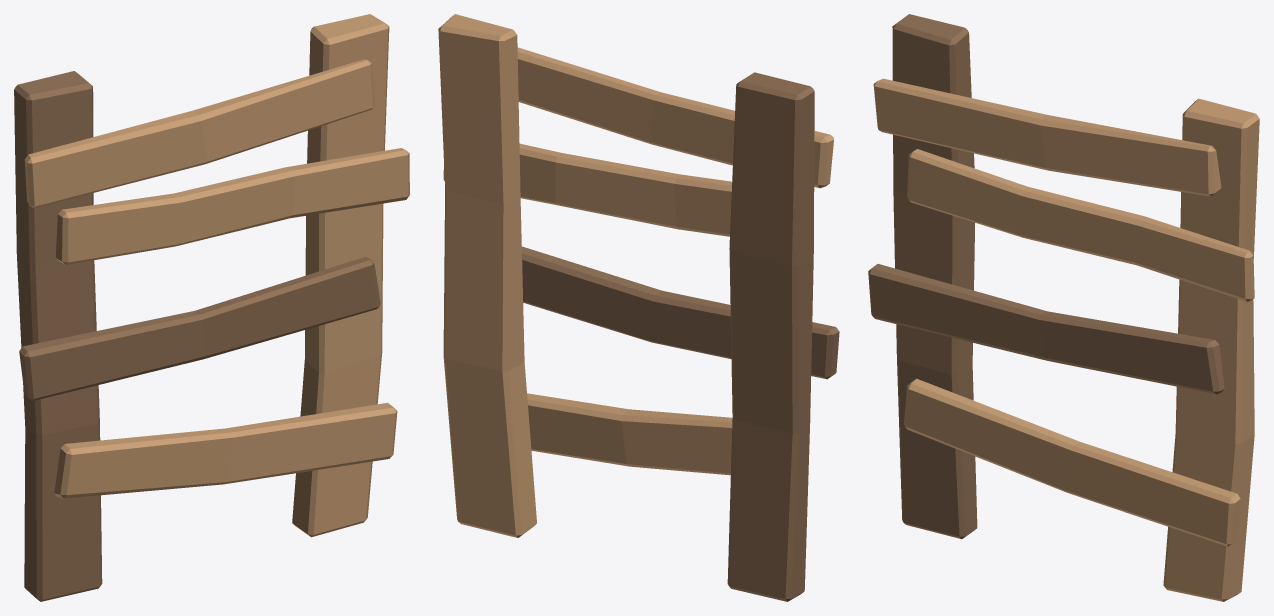
File: wooden fence.fbx
The picture shows the model from 3 angles, left to right: view 1: azimuth 30°, elevation 25°; view 2: azimuth 150°, elevation 25°; view 3: azimuth 330°, elevation 25°; orthographic projection. The views are drawn at different scales.
Parts seen in each view (by area): view 1: wooden-fence; view 2: wooden-fence; view 3: wooden-fence.
Part boxes in pixels (<box>): wooden-fence: <box>14,14,409,601</box>; wooden-fence: <box>438,14,839,601</box>; wooden-fence: <box>868,14,1259,601</box>.
Bounding box in the file's own units: 2.04 × 2.57 × 0.2847.
